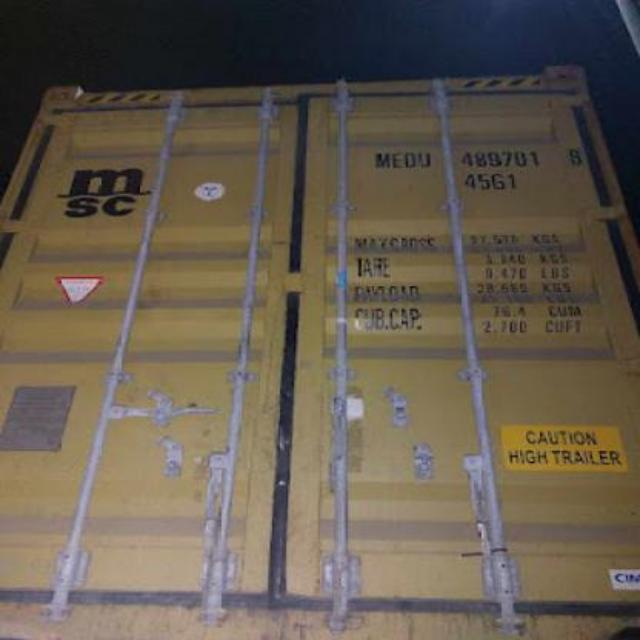0: (512, 136, 528, 170)
1: (528, 145, 542, 169)
4: (456, 145, 472, 169)
7: (498, 142, 512, 168)
8: (564, 142, 586, 166), (472, 146, 486, 170)
9: (484, 143, 500, 169)
D: (404, 143, 416, 173)
E: (388, 146, 402, 170)
M: (370, 143, 390, 173)
U: (418, 146, 430, 170)
